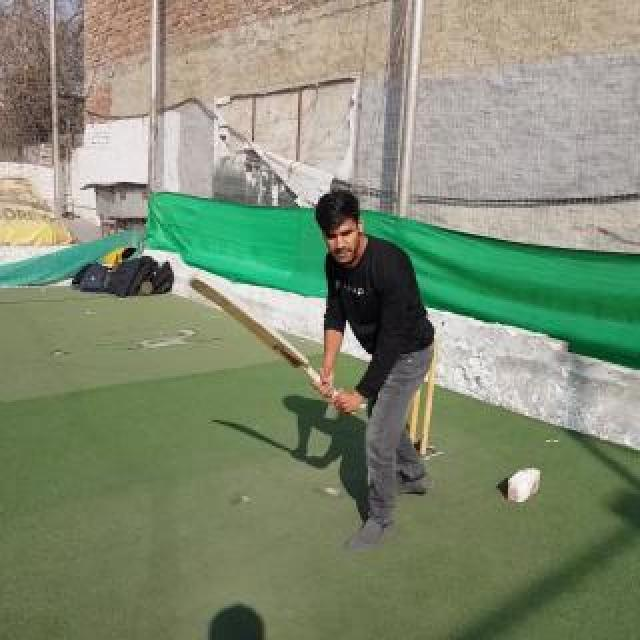bat: (187, 272, 357, 416)
